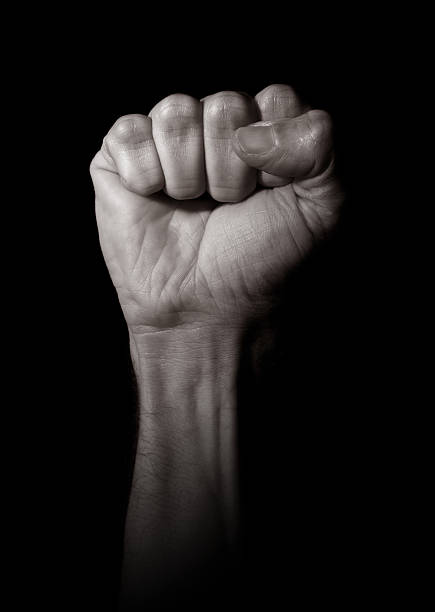fist: (81, 76, 353, 342)
